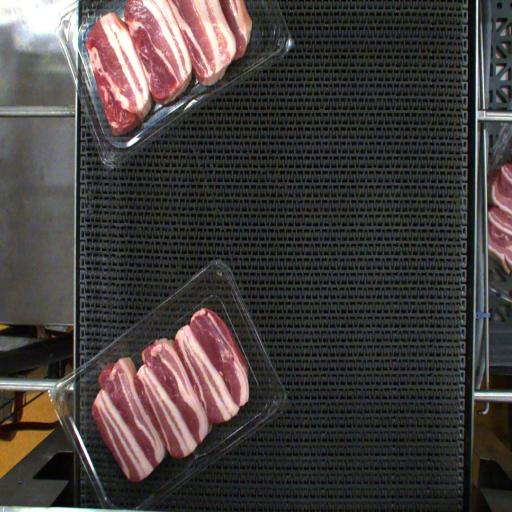packaging-error: (96, 335, 128, 371)
